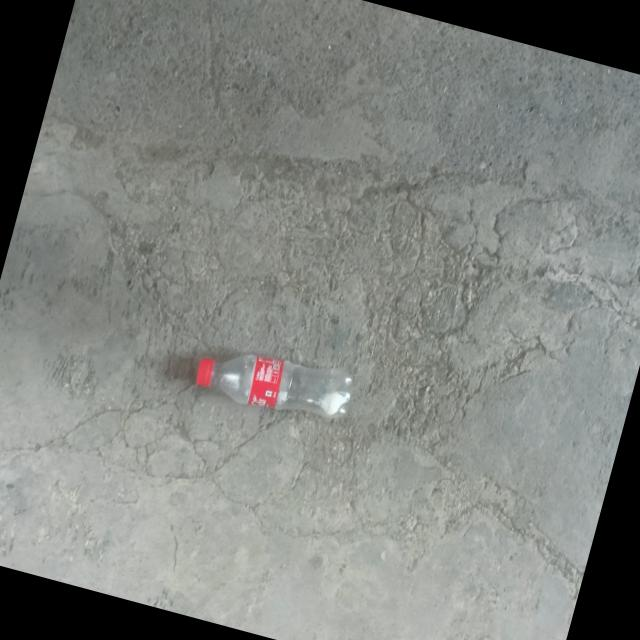Bottle: (195, 354, 353, 418)
